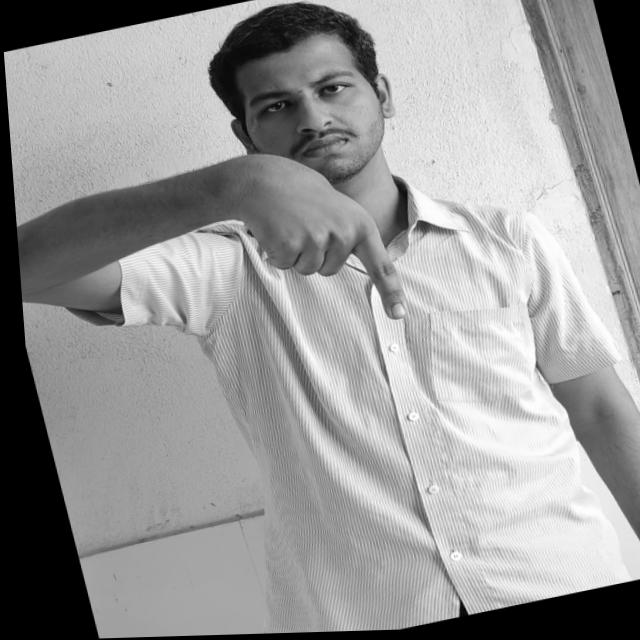Now: (216, 131, 425, 350)
